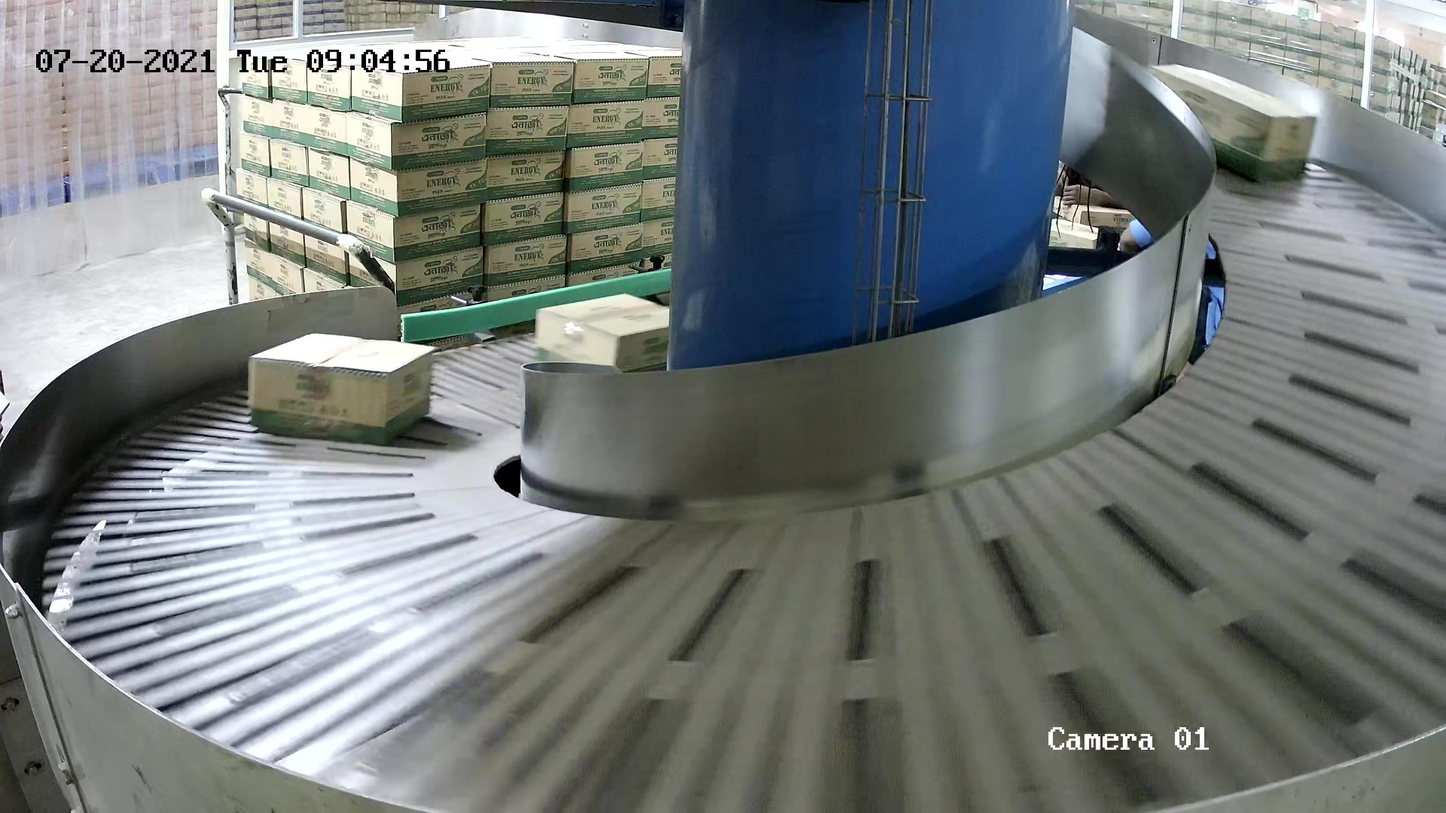Box: (247, 332, 435, 446), (1145, 64, 1319, 187), (536, 292, 690, 378)
